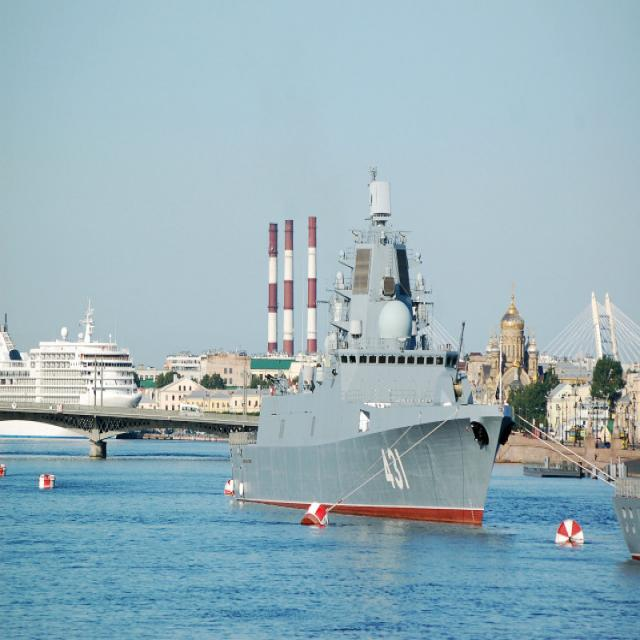Fragata: (225, 168, 519, 532)
